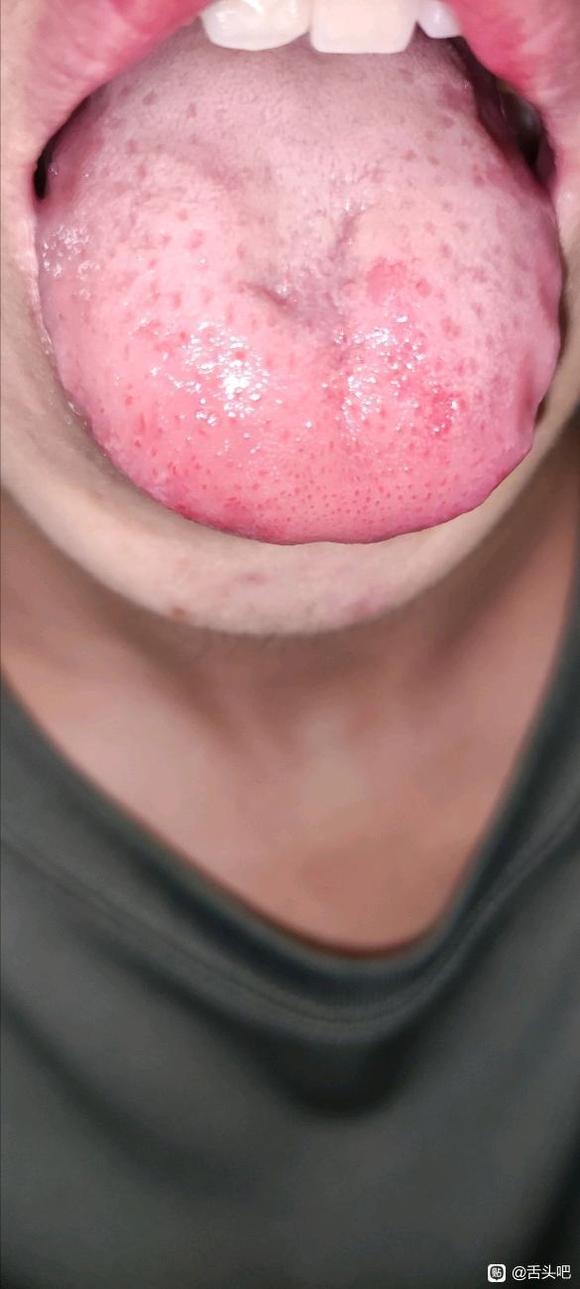baitaishe: (37, 19, 565, 544)
chihenshe: (498, 338, 560, 441), (522, 250, 573, 340)
hongdianshe: (375, 401, 390, 421), (120, 391, 135, 408)
hongshe: (37, 19, 565, 544)
